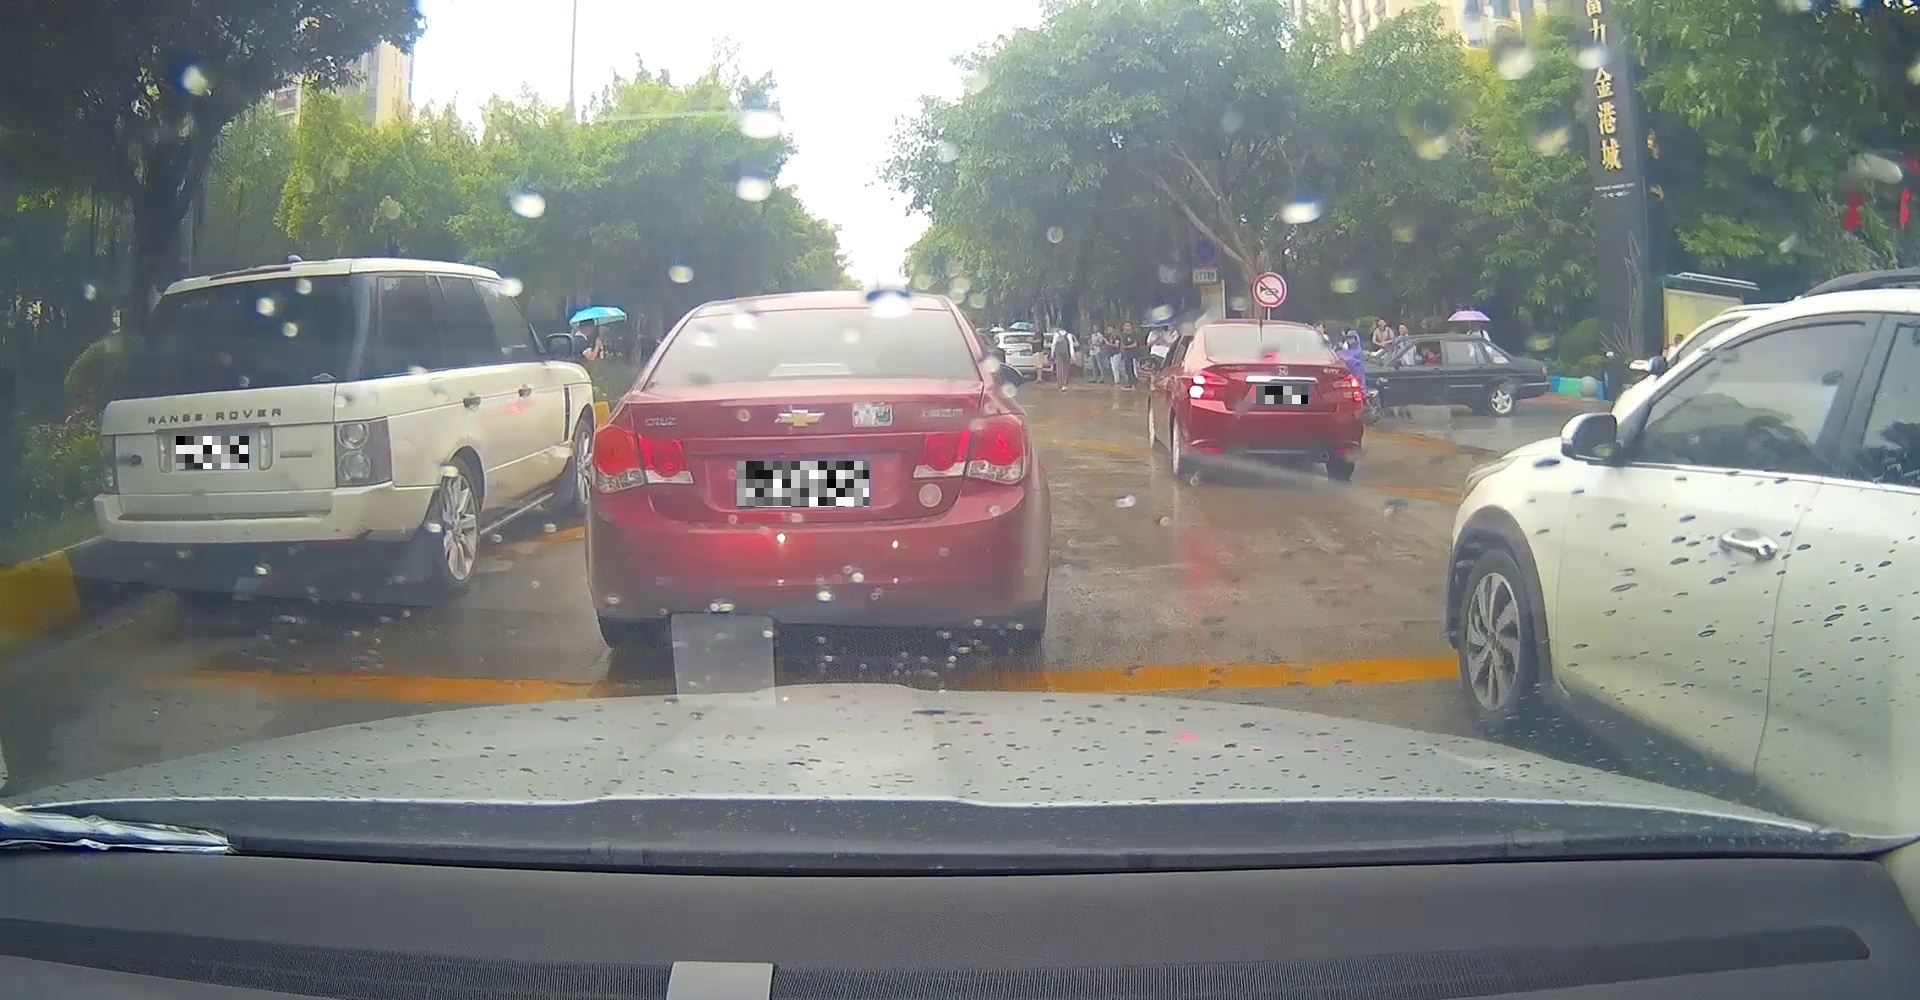L_light: (590, 425, 695, 492), (94, 434, 122, 494), (1189, 371, 1225, 400)
R_light: (912, 412, 1030, 486), (333, 415, 392, 487), (1333, 372, 1363, 401)
T_light: (770, 360, 851, 376), (207, 266, 292, 280), (1257, 352, 1281, 358)
day-brake: (1186, 319, 1363, 481)
day-no: (585, 291, 1050, 651), (91, 258, 392, 603)
plate_1: (177, 437, 249, 470)
plate_2: (737, 461, 869, 508)
plate_3: (1256, 386, 1308, 404)
